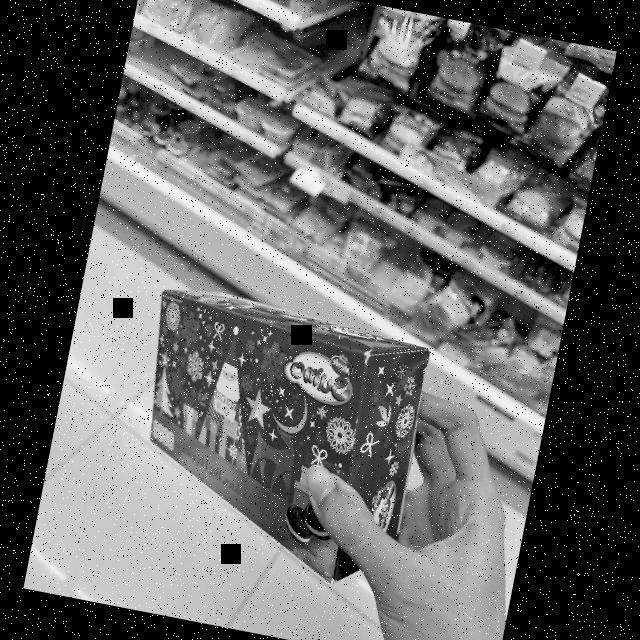cardboard_box: (104, 264, 443, 592)
